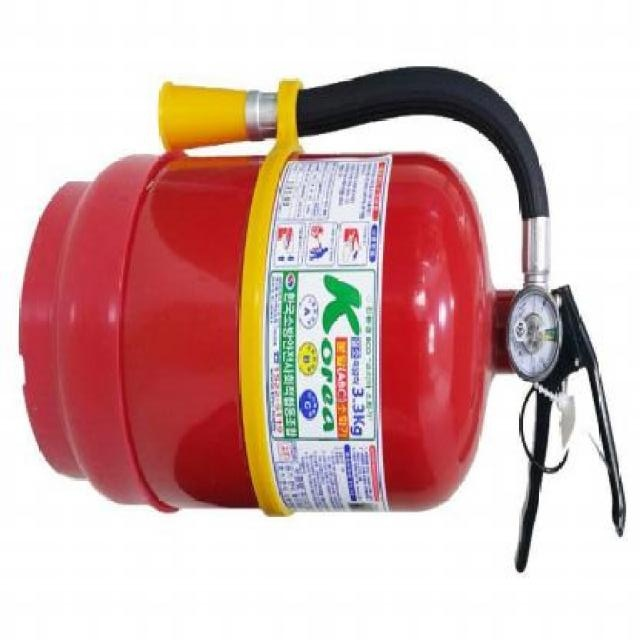fire extinguisher: (19, 63, 626, 574)
